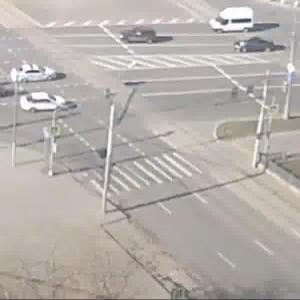car: (207, 9, 263, 34), (10, 67, 72, 88), (18, 93, 76, 113), (233, 38, 282, 55), (119, 26, 158, 46)
